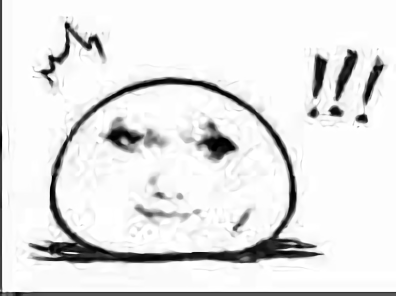dragon: (98, 114, 241, 224)
